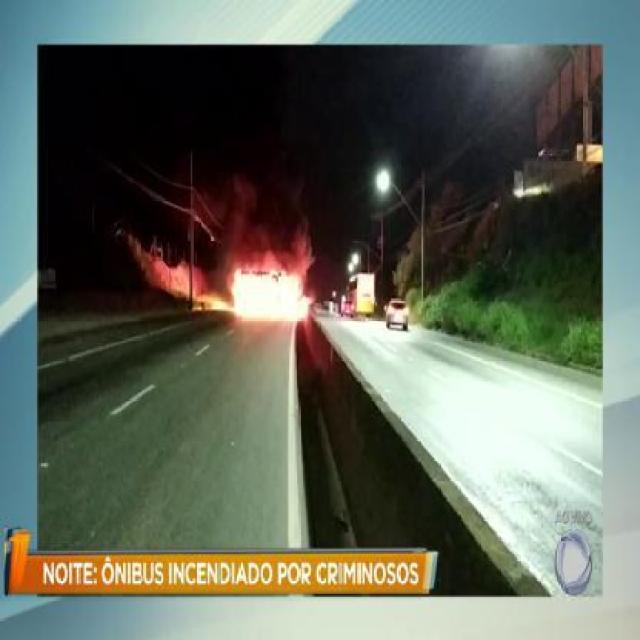Fire: (226, 262, 311, 318)
